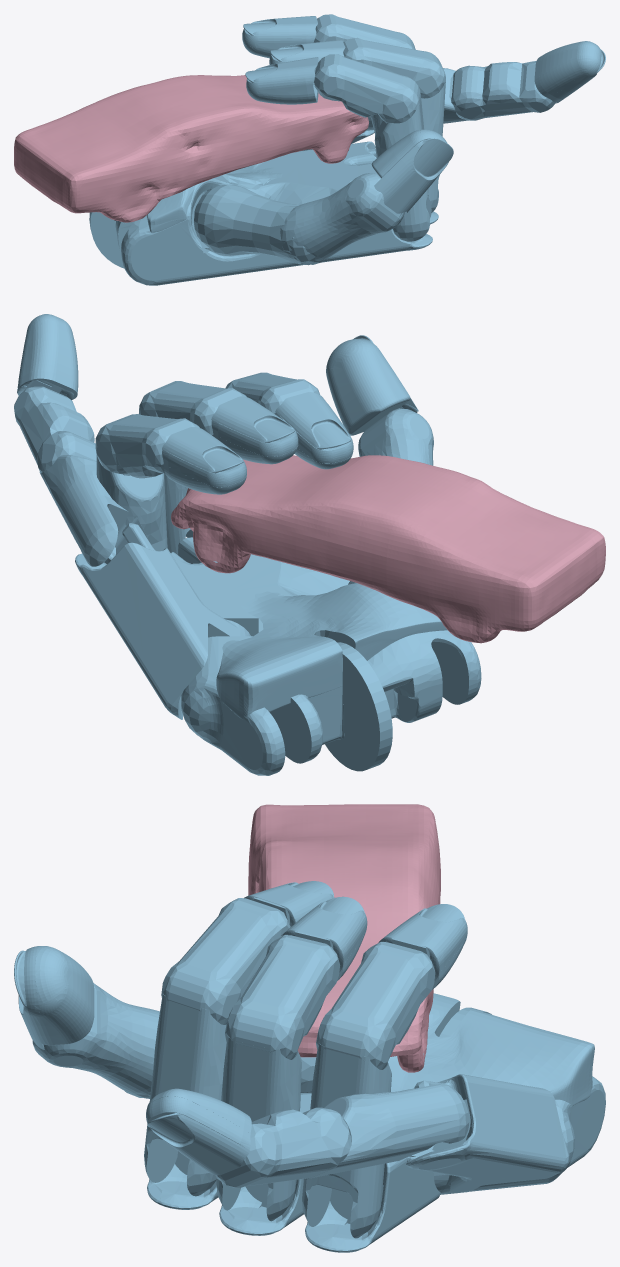
3 renders of one model, top to bottom at view 1: azimuth 30°, elevation 25°; view 2: azimuth 150°, elevation 25°; view 3: azimuth 270°, elevation 25°, orthographic. The views are drawn at different scales.
Visible parts, largest first — view 1: hand, world; view 2: hand, world; view 3: hand, world.
Part boxes in pixels (x1=…): hand: x1=89, y1=14, x2=605, y2=285; world: x1=14, y1=75, x2=368, y2=222; hand: x1=14, y1=314, x2=481, y2=775; world: x1=171, y1=455, x2=605, y2=643; hand: x1=14, y1=881, x2=605, y2=1252; world: x1=248, y1=804, x2=440, y2=1072.
Size of the model in its own units: 0.211 by 0.0931 by 0.1488.
